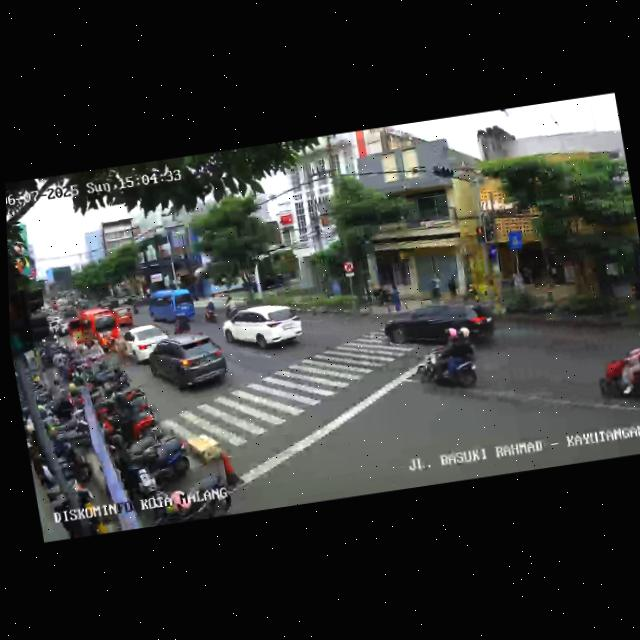bus: (146, 287, 197, 334)
car: (379, 293, 490, 358), (145, 328, 231, 395), (219, 299, 306, 360), (66, 306, 123, 357), (117, 322, 174, 366), (113, 305, 136, 331)
motorcycle: (412, 329, 485, 400), (596, 331, 640, 413), (173, 311, 194, 335), (203, 298, 220, 326), (222, 295, 239, 318)
person: (390, 285, 402, 312)
